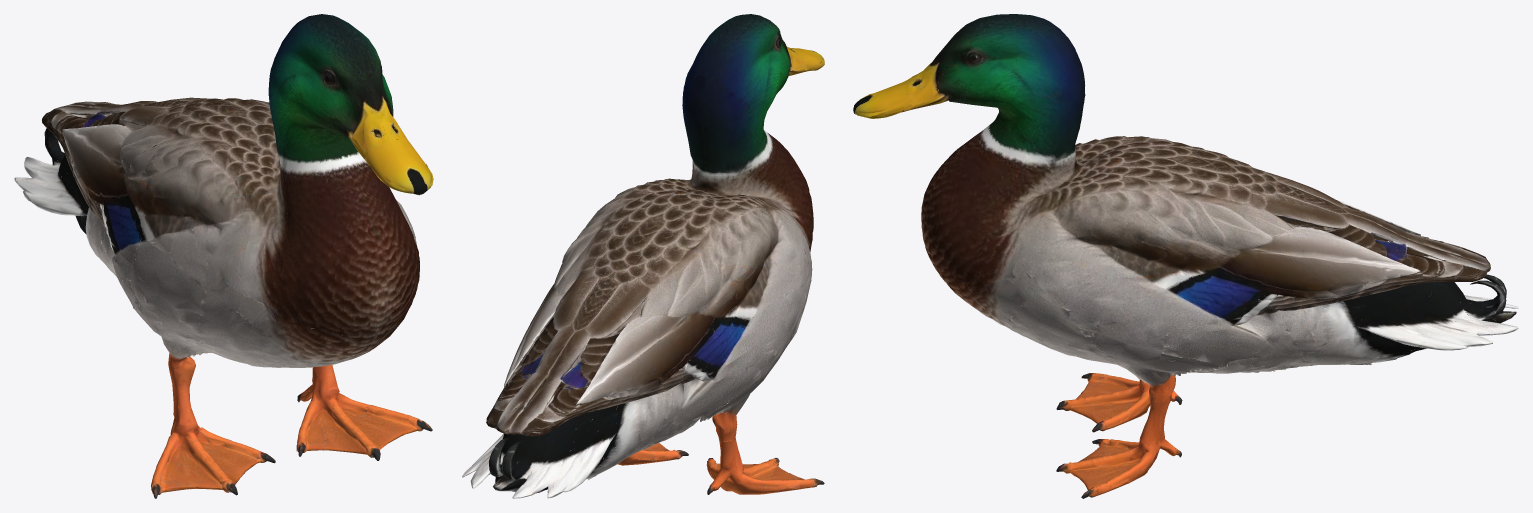
The model's file is duck.glb.
3 views of the same model, side by side, from view 1: azimuth 30°, elevation 25°; view 2: azimuth 150°, elevation 25°; view 3: azimuth 270°, elevation 25° (orthographic). The views are drawn at different scales.
Parts seen in each view (by area): view 1: Mesh_0; view 2: Mesh_0; view 3: Mesh_0.
Boxes of the visible parts, left/top/right/bottom form: Mesh_0: left=14, top=14, right=433, bottom=498; Mesh_0: left=462, top=14, right=824, bottom=498; Mesh_0: left=853, top=14, right=1518, bottom=498.
Bounding box in the file's own units: 0.0307 × 0.05 × 0.071.
Materials: 1 (1 with a texture image).
